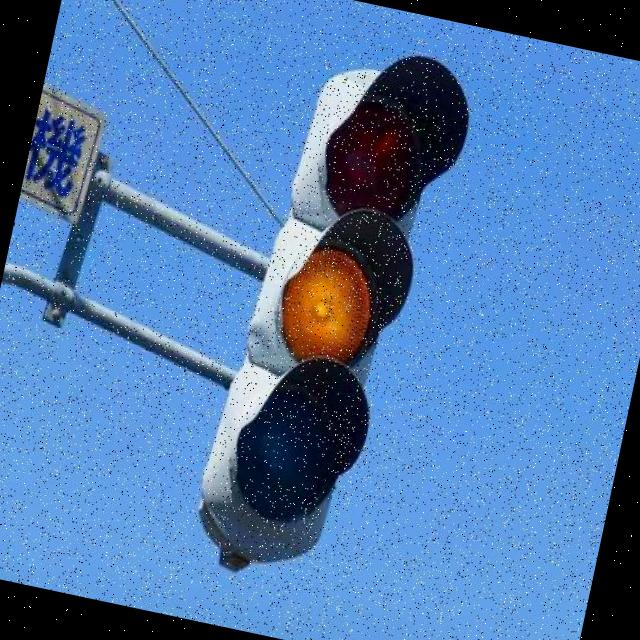yellow_light: (273, 216, 426, 387)
